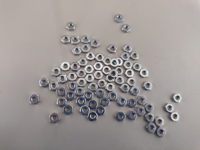nut: (29, 94, 40, 106), (49, 114, 60, 125), (39, 78, 50, 89), (94, 88, 106, 98), (83, 91, 95, 101), (172, 94, 183, 104), (171, 112, 181, 123), (64, 105, 74, 116), (56, 98, 67, 108), (88, 112, 99, 122), (116, 112, 126, 123), (145, 113, 156, 123), (118, 97, 129, 107), (128, 99, 139, 109), (67, 72, 78, 82), (80, 35, 91, 45), (94, 53, 106, 62), (165, 104, 175, 114), (68, 81, 78, 91), (155, 117, 165, 127), (128, 111, 138, 121), (137, 107, 147, 117), (96, 106, 106, 116), (88, 101, 98, 111), (76, 96, 86, 106), (77, 78, 87, 88), (71, 35, 81, 45), (110, 58, 120, 68), (116, 76, 126, 86), (113, 57, 123, 67), (49, 82, 60, 91), (60, 62, 71, 71), (157, 129, 168, 138), (130, 87, 141, 96), (139, 69, 150, 78), (100, 98, 111, 107), (88, 83, 99, 92), (75, 87, 86, 96), (93, 62, 104, 71), (91, 38, 100, 49), (115, 66, 126, 75), (122, 24, 132, 33), (115, 14, 125, 23), (108, 45, 118, 54), (66, 22, 76, 31), (62, 36, 72, 45), (72, 47, 82, 56), (58, 75, 68, 84), (147, 125, 157, 134), (127, 78, 137, 87), (121, 84, 131, 93), (80, 106, 89, 116), (71, 62, 80, 72), (94, 70, 103, 80), (106, 74, 116, 83), (98, 79, 107, 89), (81, 44, 91, 53), (77, 69, 87, 78), (123, 61, 134, 69), (86, 52, 97, 60), (52, 68, 61, 77), (138, 97, 147, 106), (126, 69, 135, 78), (85, 65, 94, 74), (56, 88, 66, 96), (144, 82, 154, 90), (145, 104, 155, 112), (109, 92, 117, 102), (133, 63, 143, 71), (106, 84, 116, 92), (123, 45, 134, 52), (131, 52, 140, 60), (122, 52, 131, 60), (85, 75, 95, 82), (109, 70, 119, 77), (103, 67, 111, 75), (105, 57, 111, 65)
